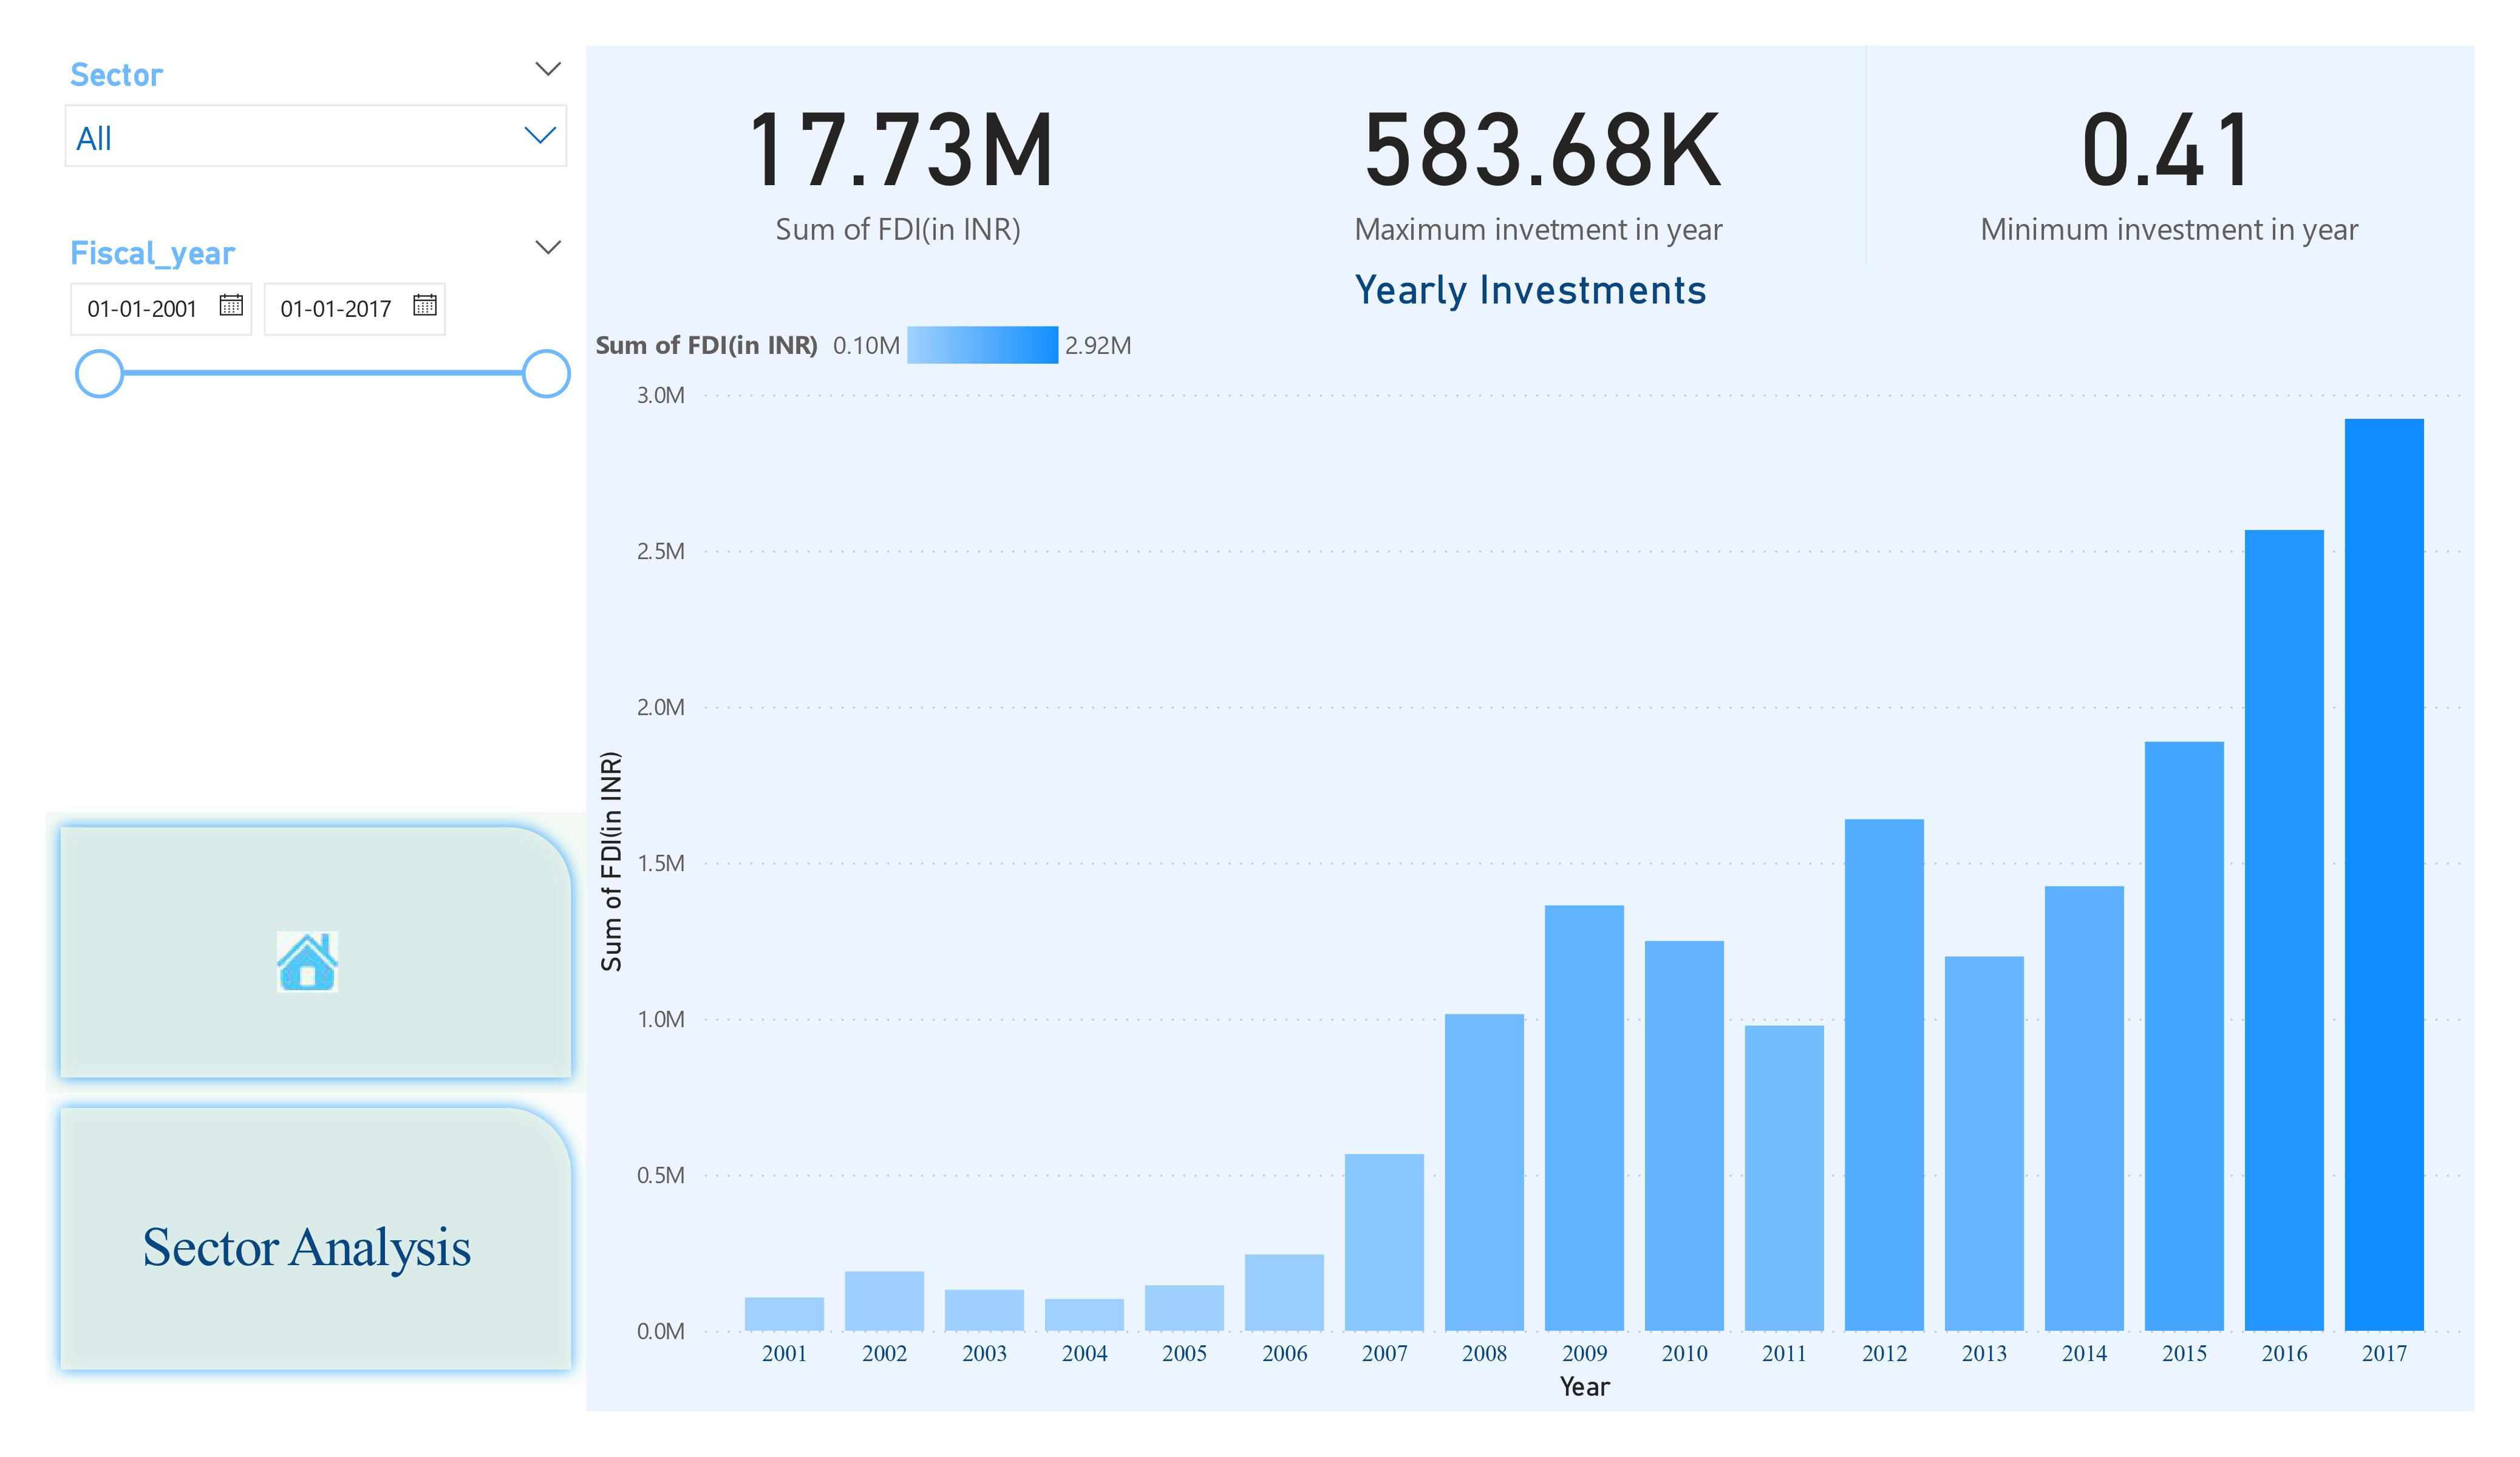

The page's visual inventory and layout, read from the dashboard file:
{"tool":"powerbi","page":{"name":"Year_analysis","canvas":[1280,720],"ordinal":1},"visuals":[{"type":"slicer","fields":{"Values":["Transformed_FDI_india (2).Sector"]},"box":[0,0,285.5,94.4],"z":0},{"type":"slicer","fields":{"Values":["Transformed_FDI_india (2).Fiscal_year"]},"box":[0,94.4,285.5,161.1],"z":1000},{"type":"card","fields":{"Values":["Transformed_FDI_india (2).maximum invetment year"]},"box":[614.3,0,345.5,115.5],"z":2000},{"type":"card","fields":{"Values":["Sum(Transformed_FDI_india (2).FDI(in INR))"]},"box":[285.5,0,328.8,115.5],"z":3000},{"type":"card","fields":{"Values":["Transformed_FDI_india (2).minimum investment"]},"box":[959.5,0,320.2,115.7],"z":4000},{"type":"clusteredColumnChart","title":"Yearly Investments","fields":{"Category":["Transformed_FDI_india (2).Fiscal_year.Variation.Date Hierarchy.Year"],"Y":["Sum(Transformed_FDI_india (2).FDI(in INR))"]},"box":[285.5,115.5,994.2,604.3],"z":5000},{"type":"actionButton","box":[0,404.3,285.5,147.7],"z":6000},{"type":"actionButton","box":[0,552.1,285.5,154.4],"z":7001}]}

Visuals, with their boxes in screenshot pixels (x1, y1, x2, y2):
slicer - Transformed_FDI_india (2).Sector: select_region(46, 46, 587, 225)
slicer - Transformed_FDI_india (2).Fiscal_year: select_region(46, 225, 587, 530)
card - Transformed_FDI_india (2).maximum invetment year: select_region(1211, 46, 1867, 265)
card - Sum(Transformed_FDI_india (2).FDI(in INR)): select_region(587, 46, 1211, 265)
card - Transformed_FDI_india (2).minimum investment: select_region(1866, 46, 2474, 265)
"Yearly Investments" clusteredColumnChart: select_region(587, 265, 2474, 1411)
actionButton: select_region(46, 812, 587, 1093)
actionButton: select_region(46, 1093, 587, 1386)
